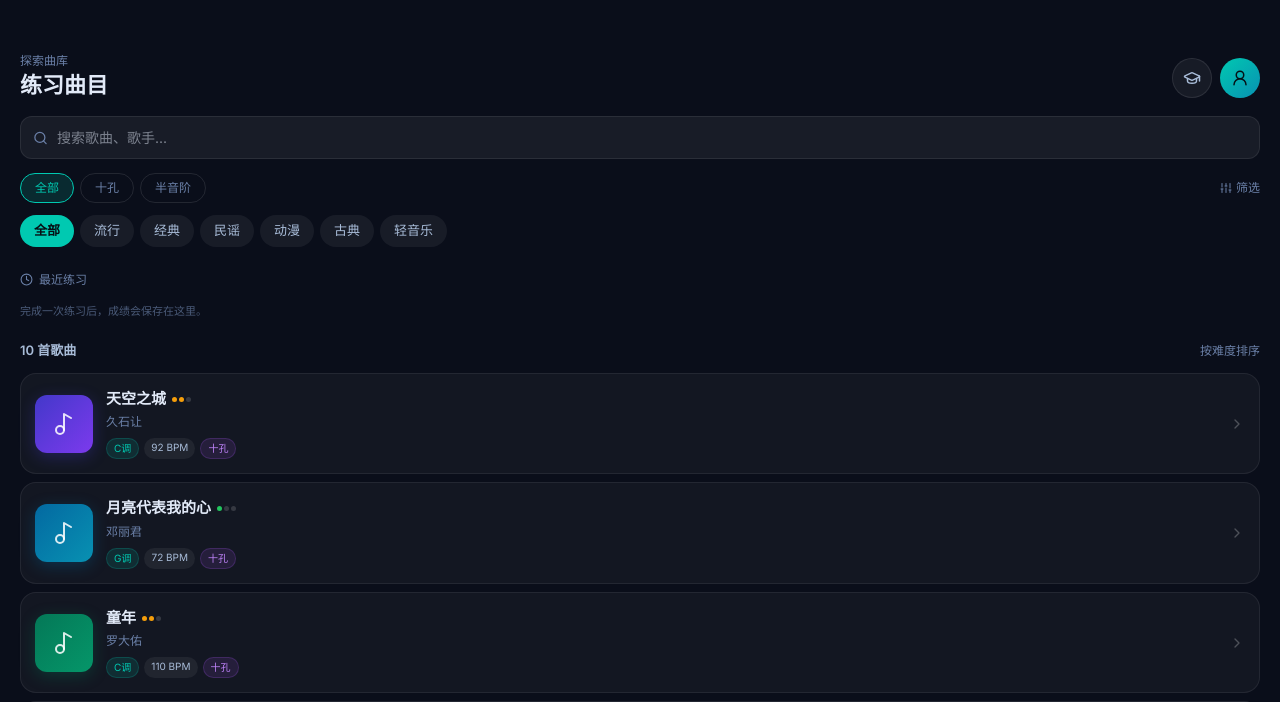
Test: HomePage › filters songs by search and resets the result
The image size is (1280, 702).
Step 1. Type "月亮" into the field with placeholder "搜索歌曲、歌手..." → coordinates (640, 138), box [20,116,1260,159]
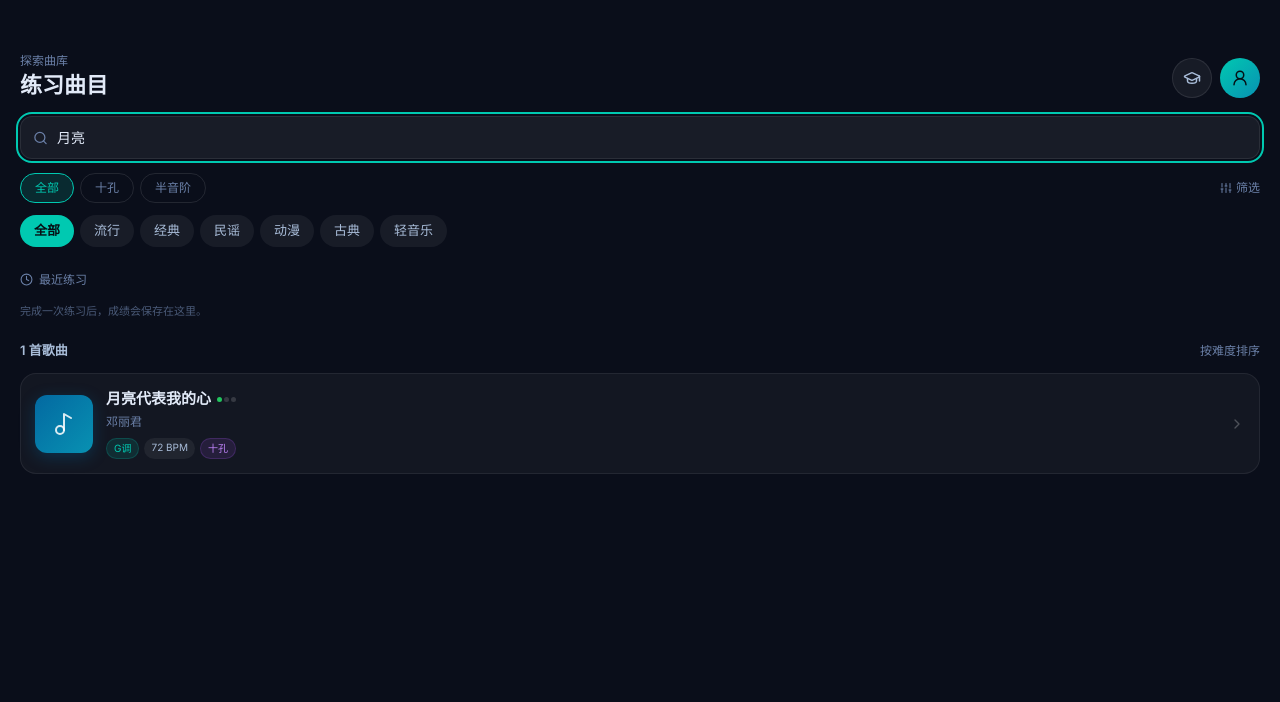
Expected: the button "月亮代表我的心" is shown, [20,373,1260,474]
Expected: the button "天空之城" is gone
Step 2. Clear the field with placeholder "搜索歌曲、歌手..." → coordinates (640, 138), box [20,116,1260,159]
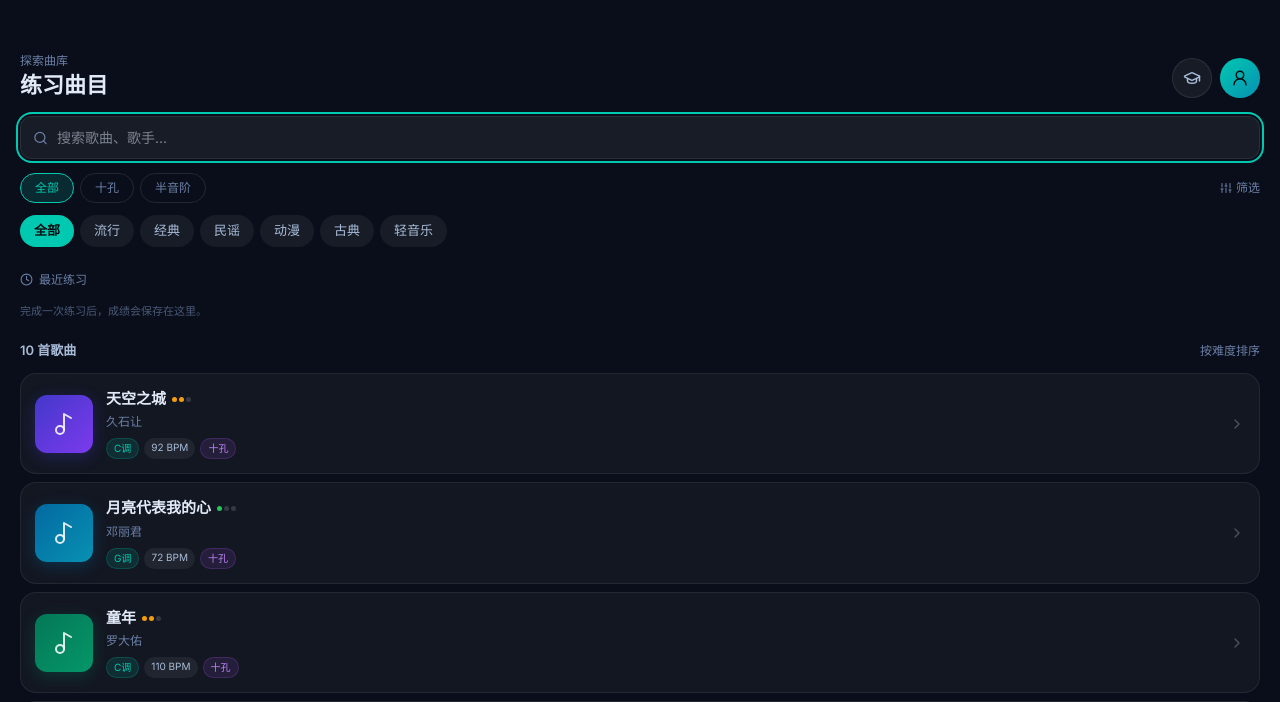
Expected: the button "天空之城 久石让 C调 92 BPM 十孔" is shown, [20,373,1260,474]
